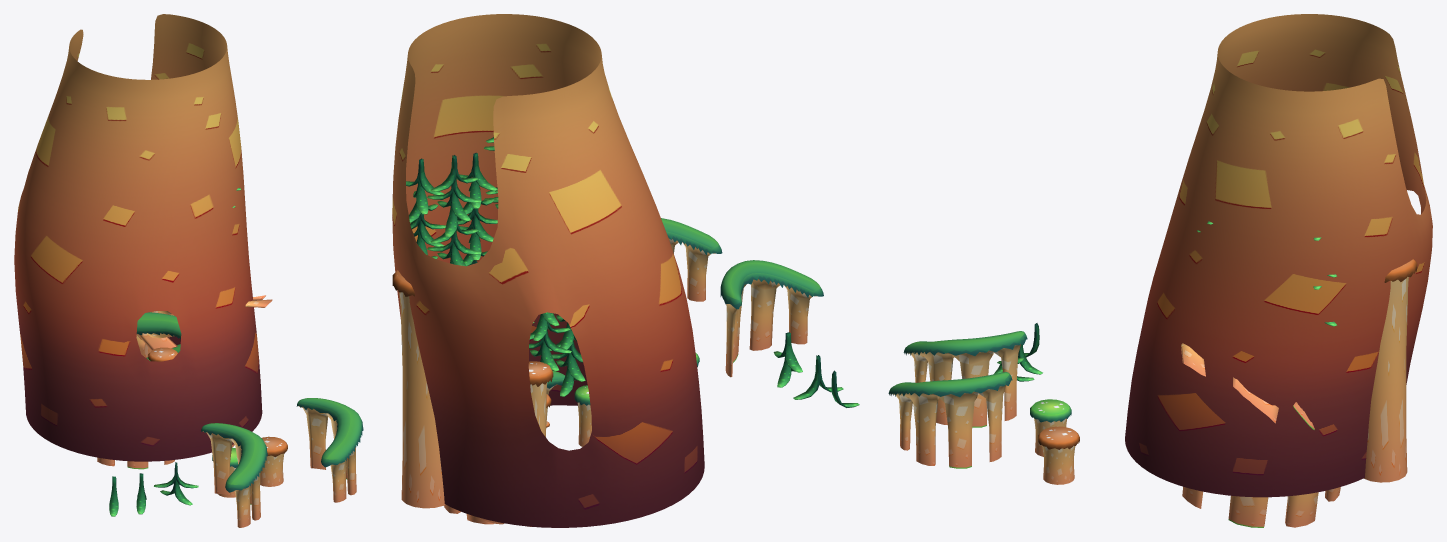
File: HollowWorld.fbx
3 renders of one model, left to right at view 1: azimuth 30°, elevation 25°; view 2: azimuth 150°, elevation 25°; view 3: azimuth 270°, elevation 25°, orthographic. The views are drawn at different scales.
Parts seen in each view (by area): view 1: cave, Cube.007, Cube.001, Cube.002, Cube.008, base.013, Cube.010, leaf.004; view 2: cave, base.020, Cube.001, Cube.002, Cube.007, leaf.025, leaf.009, leaf.007, leaf.012, leaf.020, leaf.017, leaf.024 (+2 smaller); view 3: cave, Cube.007, base.020, Cube.001, Cube.006, Cube.002, Cube.010, base.013, base.001, base.012.
Boxes of the visible parts, x1,y1,x2,y2 form: cave: (14,14,262,461); Cube.007: (296,398,363,502); Cube.001: (203,431,260,527); Cube.002: (201,423,267,492); Cube.008: (136,312,181,338); base.013: (260,453,283,486); Cube.010: (137,295,272,350); leaf.004: (154,462,198,505); cave: (392,14,704,527); base.020: (399,292,445,508); Cube.001: (725,279,816,377); Cube.002: (720,260,823,309); Cube.007: (661,218,722,301); leaf.025: (427,155,481,236); leaf.009: (406,158,445,229); leaf.007: (457,152,497,224); leaf.012: (427,222,481,266); leaf.020: (549,335,585,396); leaf.017: (529,322,571,371); leaf.024: (459,208,493,265); cave: (1125,14,1432,497); Cube.007: (888,372,1012,468); base.020: (1363,277,1408,482); Cube.001: (907,344,1020,427); Cube.006: (1182,486,1340,527); Cube.002: (903,331,1027,355); Cube.010: (1181,343,1314,429); base.013: (1042,446,1075,484); base.001: (1030,399,1071,422); base.012: (1038,426,1079,449).
Bounding box in the file's own units: 16035 × 22340 × 24843.
